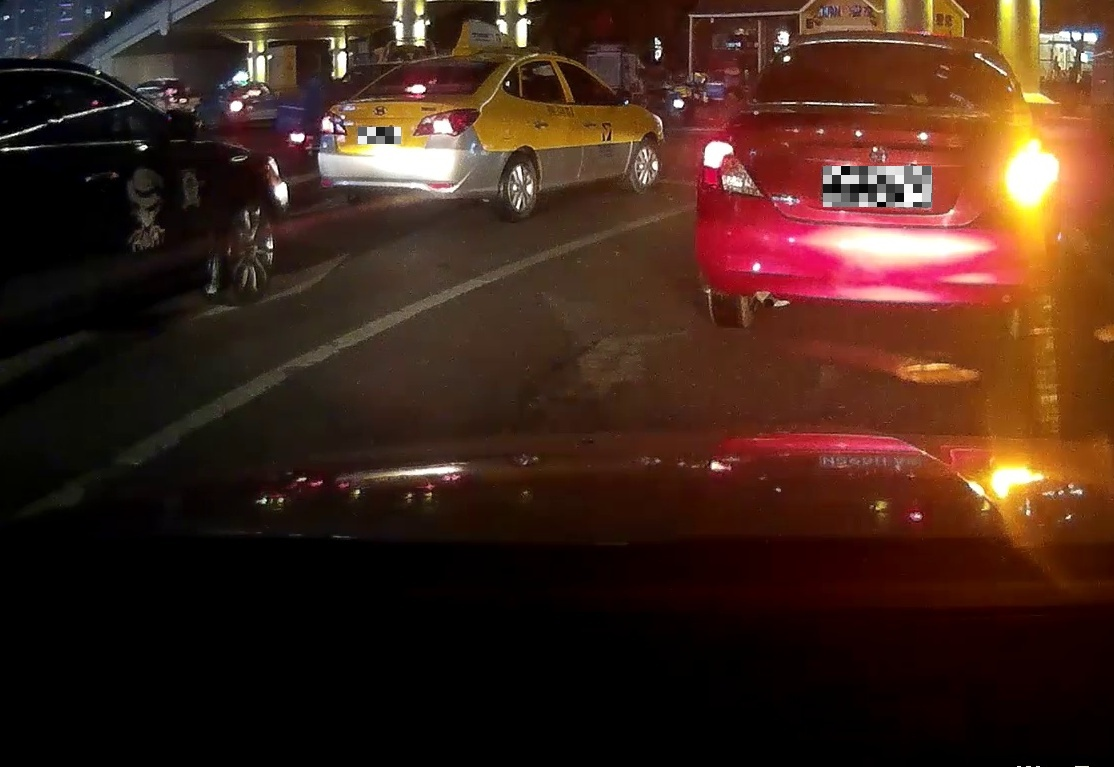L_light: (697, 137, 764, 198), (320, 110, 347, 136)
R_light: (996, 144, 1053, 210), (412, 107, 481, 137)
T_light: (857, 40, 906, 51), (405, 85, 428, 94)
night-brake: (316, 53, 507, 221)
night-right: (693, 31, 1055, 341)
plate_1: (358, 127, 401, 144)
plate_2: (823, 166, 932, 207)
